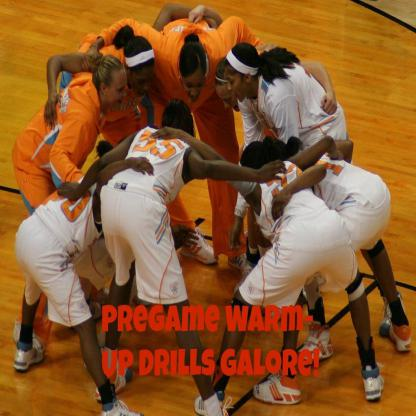face: (108, 71, 128, 111), (183, 69, 206, 103), (216, 85, 243, 113), (131, 68, 155, 99), (225, 68, 246, 103)
